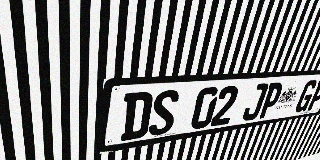0: (189, 86, 220, 130)
2: (210, 85, 240, 127)
D: (120, 91, 154, 141)
G: (293, 80, 319, 113)
J: (241, 83, 270, 122)
P: (257, 82, 285, 119), (305, 79, 320, 111)
S: (148, 89, 180, 137)
